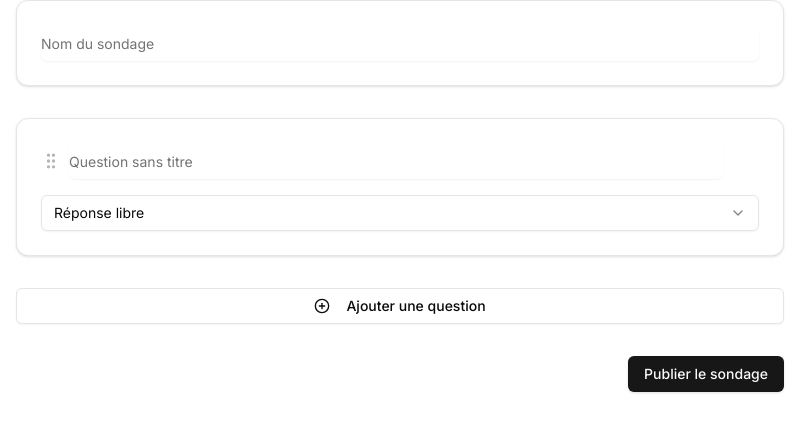
SurveyForm › affiche une erreur si la question est vide lors de la soumission
Type "Mon sondage" into the field with placeholder "Nom du sondage" at (400, 43), box left=41, top=25, right=759, bottom=61
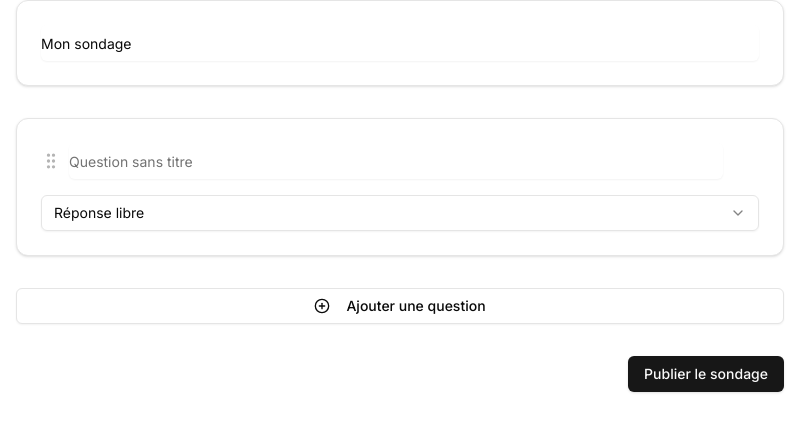
Click the button "Publier le sondage" at (706, 374), box left=628, top=356, right=784, bottom=392
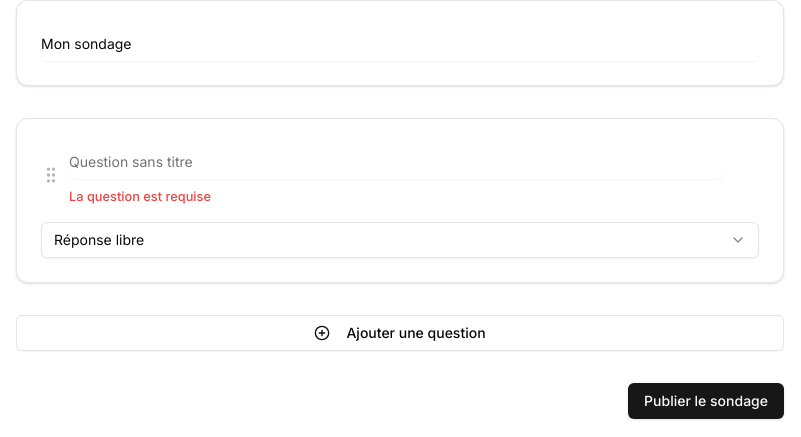
Expected: the text "La question est requise" is shown, left=69, top=189, right=211, bottom=204
